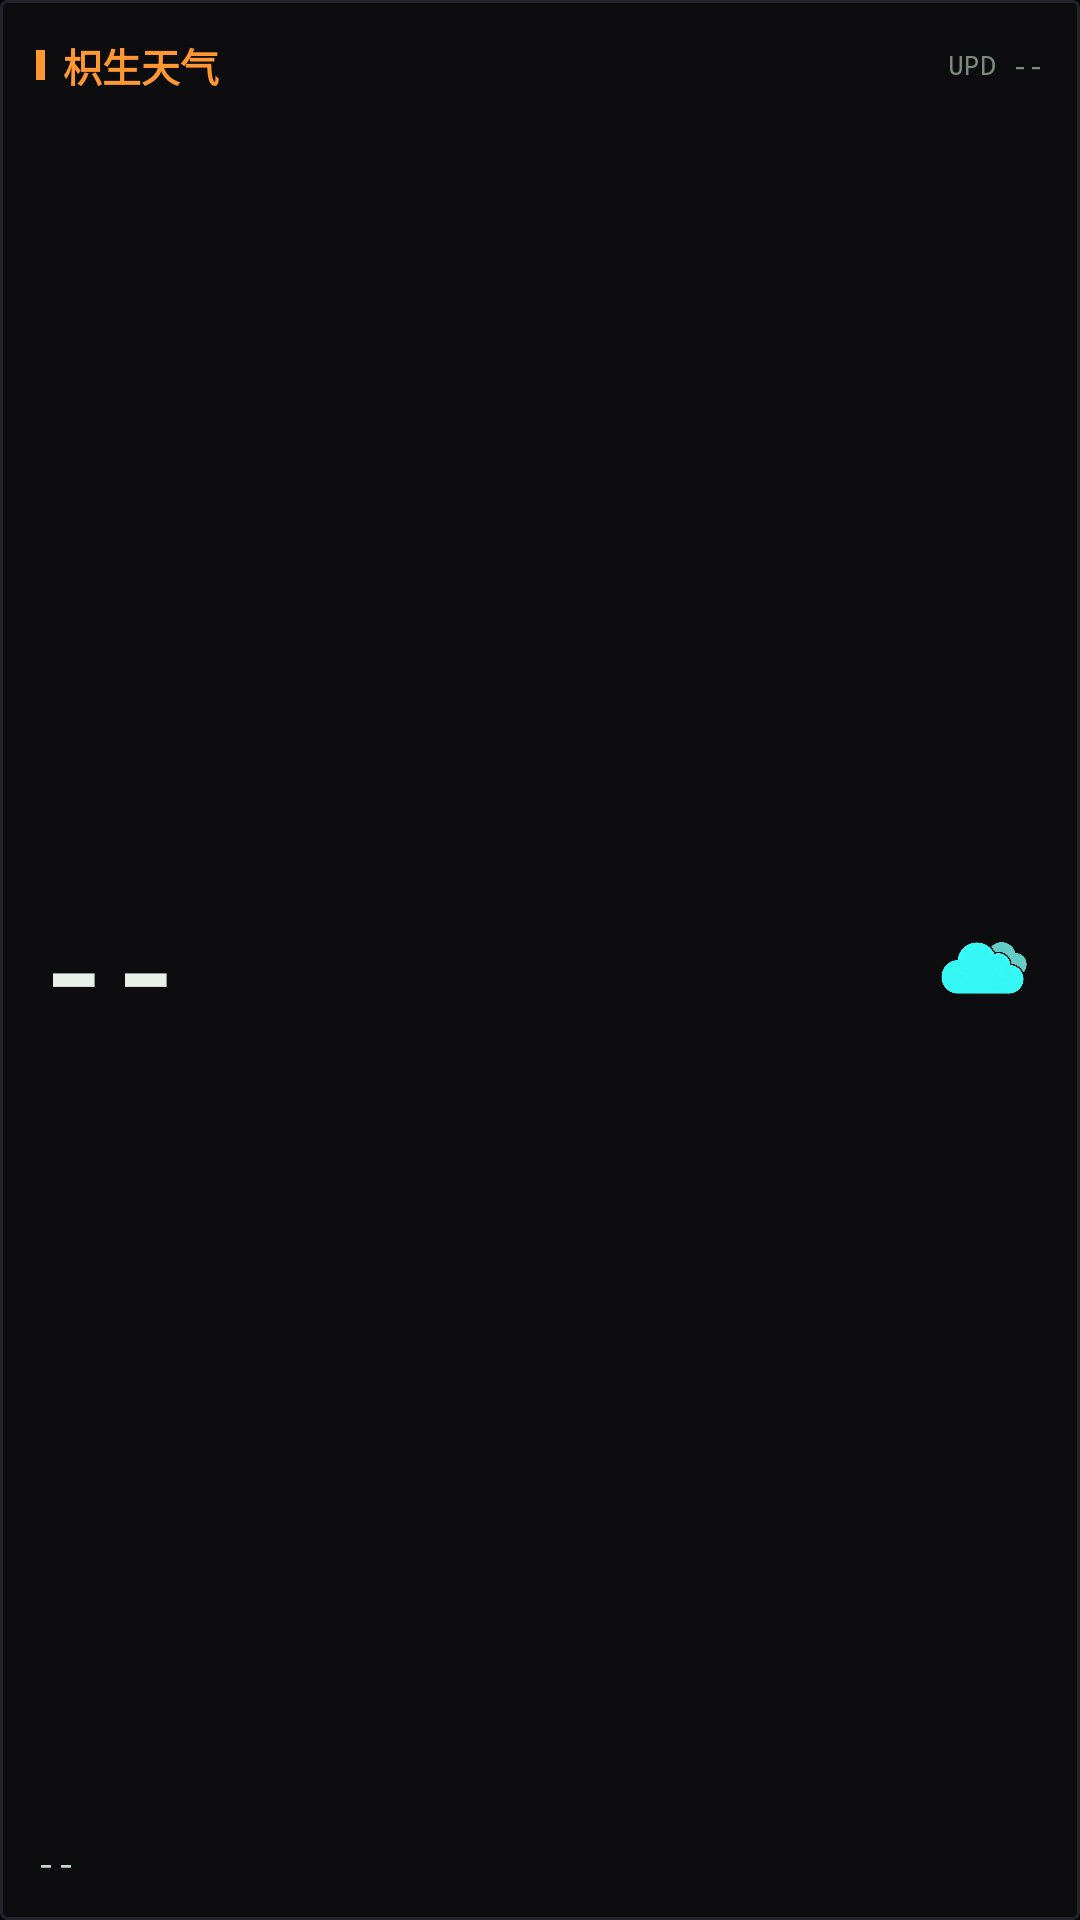

Icons on this 1080*1920 Android screen, each with its box as (x1, y1, x2, y2):
天气图标: (941, 942, 1027, 994)
